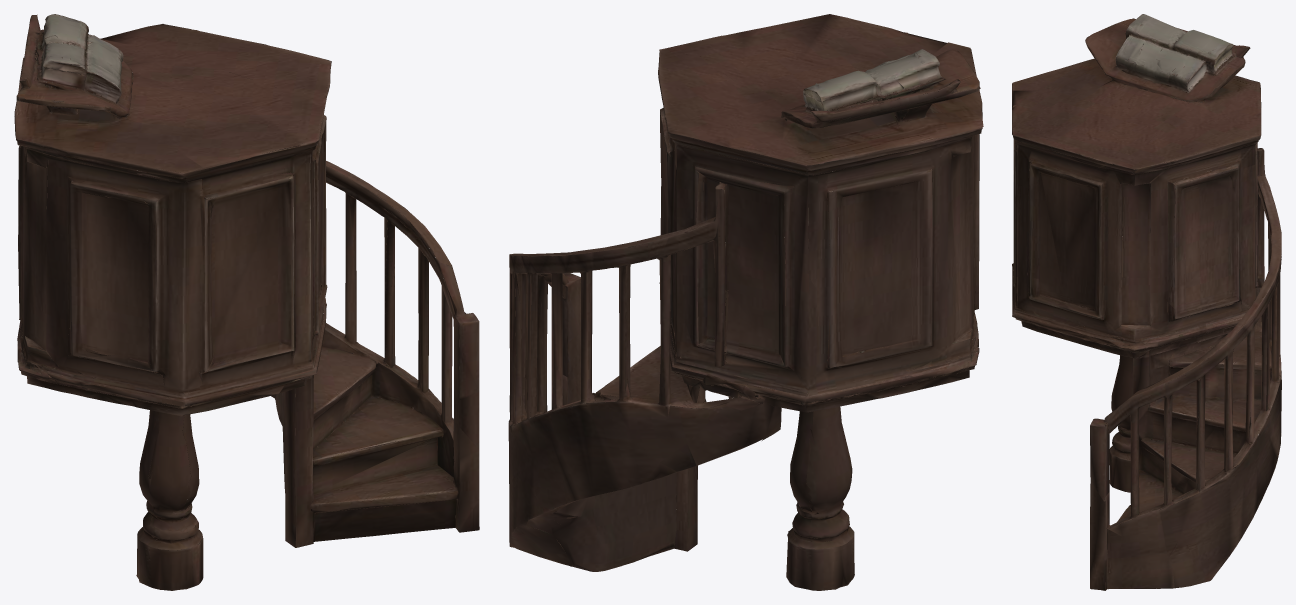
The model's file is church-pulpit.glb.
3 views of the same model, side by side, from view 1: azimuth 30°, elevation 25°; view 2: azimuth 150°, elevation 25°; view 3: azimuth 270°, elevation 25° (orthographic). The views are drawn at different scales.
Parts seen in each view (by area): view 1: Mesh_0; view 2: Mesh_0; view 3: Mesh_0.
Boxes of the visible parts, x1,y1,x2,y2 form: Mesh_0: [14, 14, 479, 590]; Mesh_0: [508, 14, 983, 590]; Mesh_0: [1012, 14, 1281, 590].
Bounding box in the file's own units: 1.61 × 1.9 × 1.09.
Materials: 1 (1 with a texture image).
